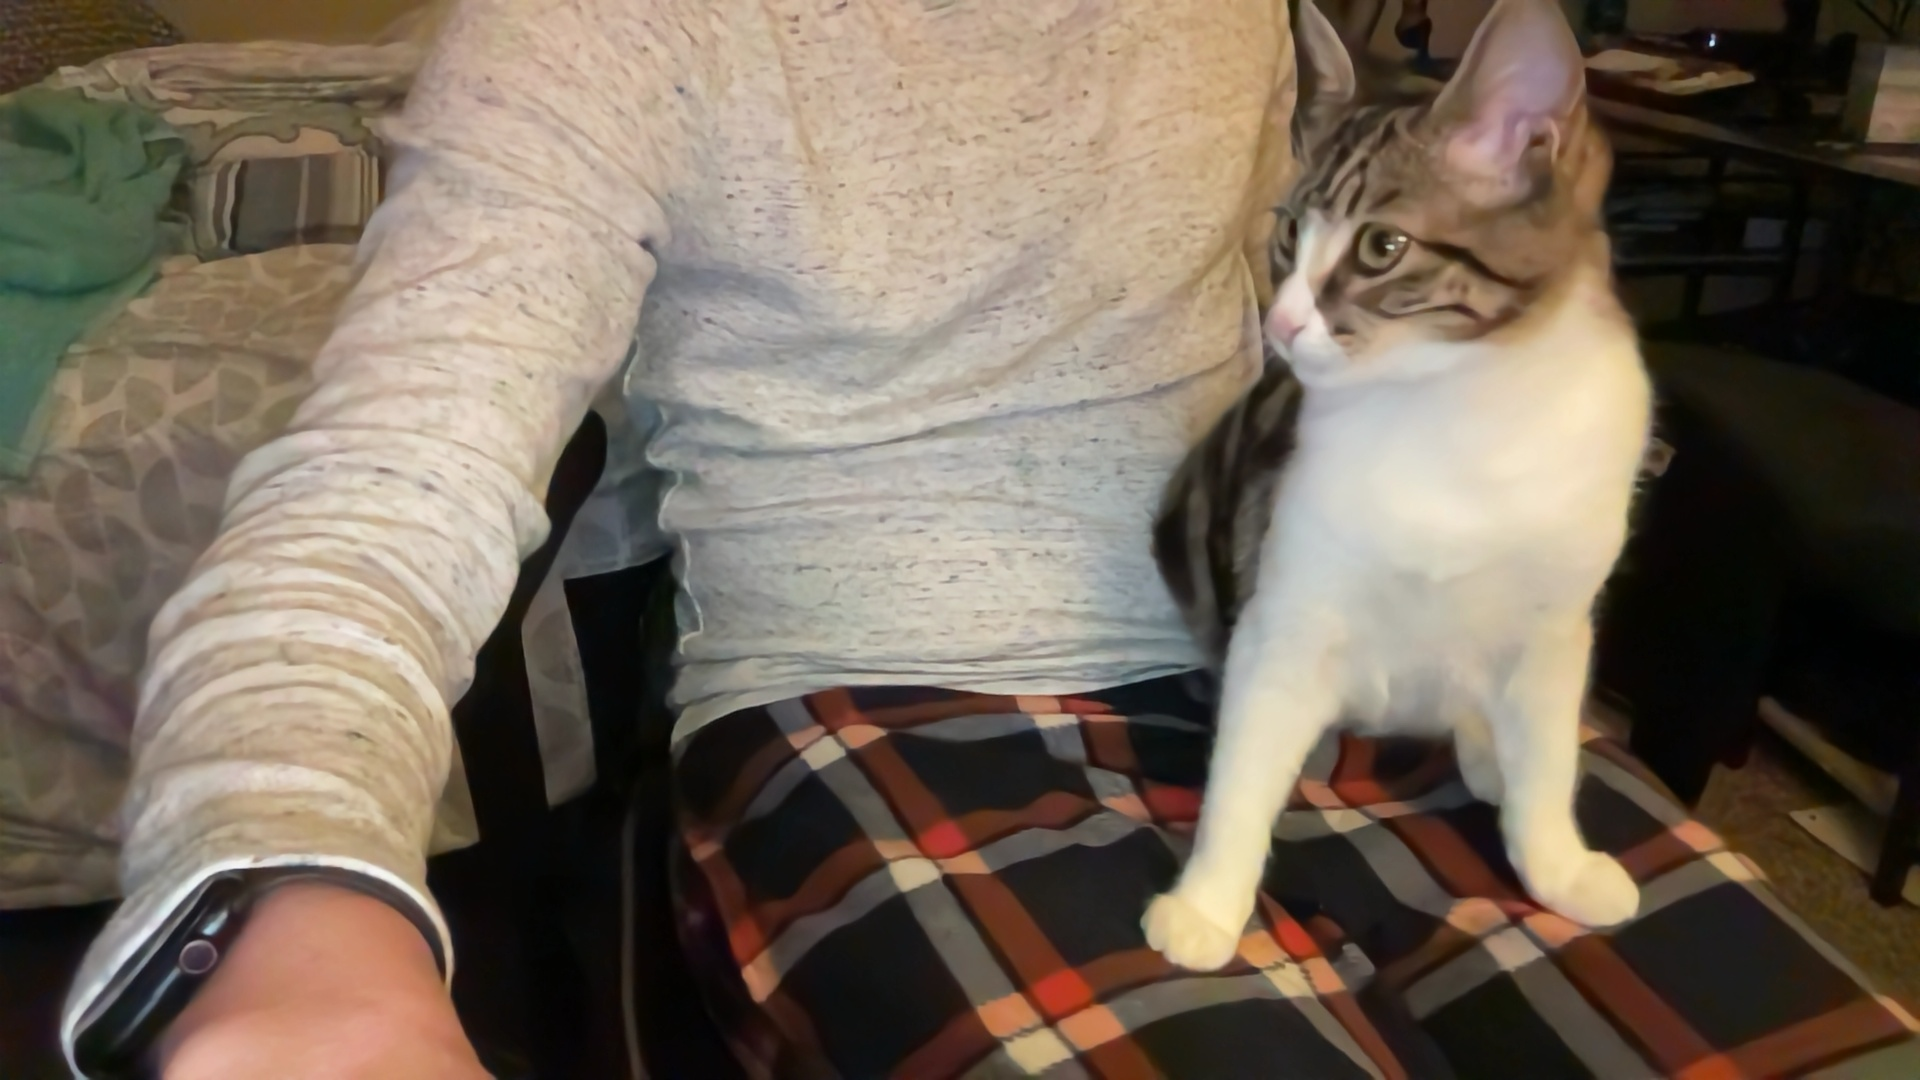cat: (1142, 20, 1665, 969)
